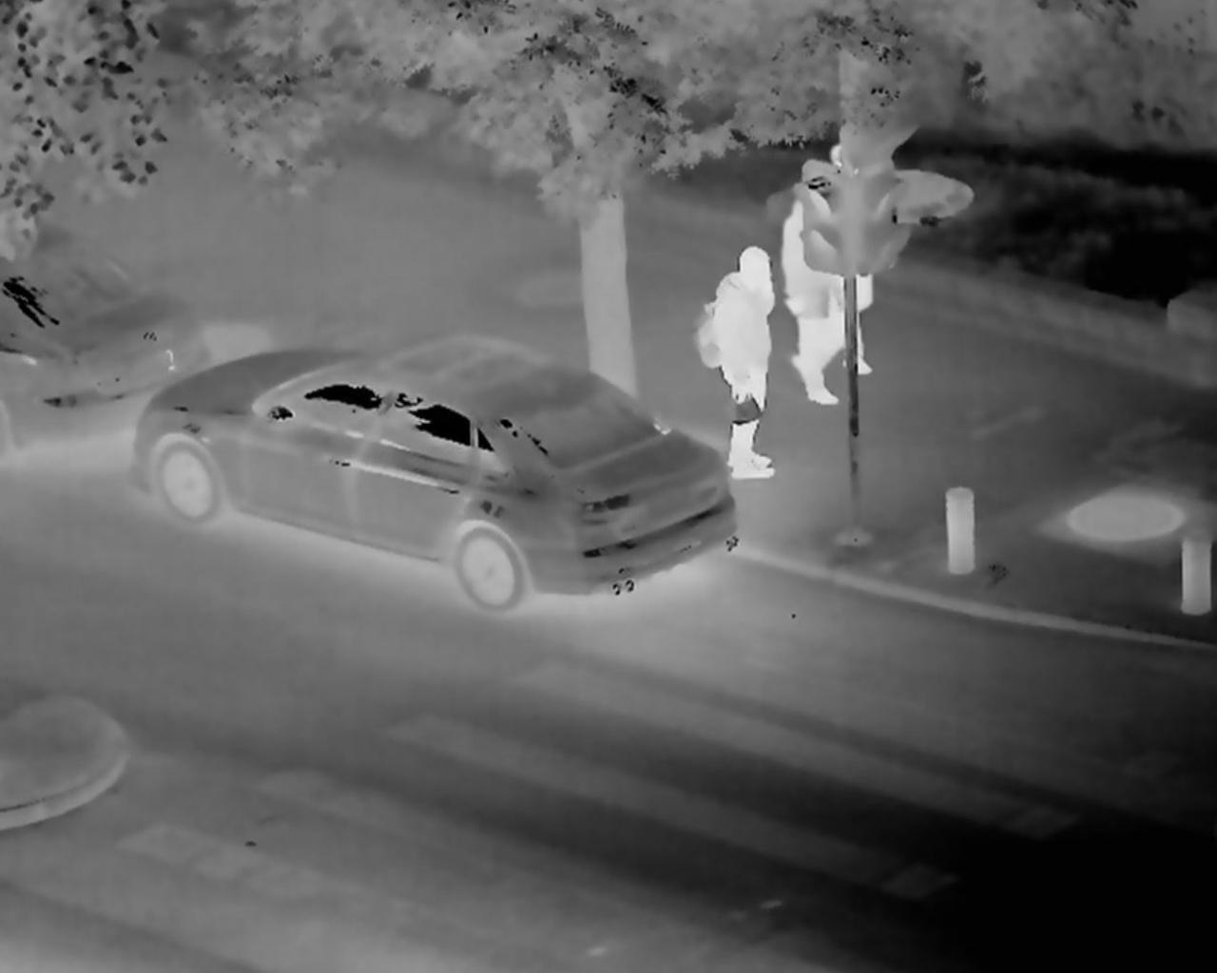person: (692, 249, 778, 481), (779, 165, 842, 408), (830, 142, 884, 379)
